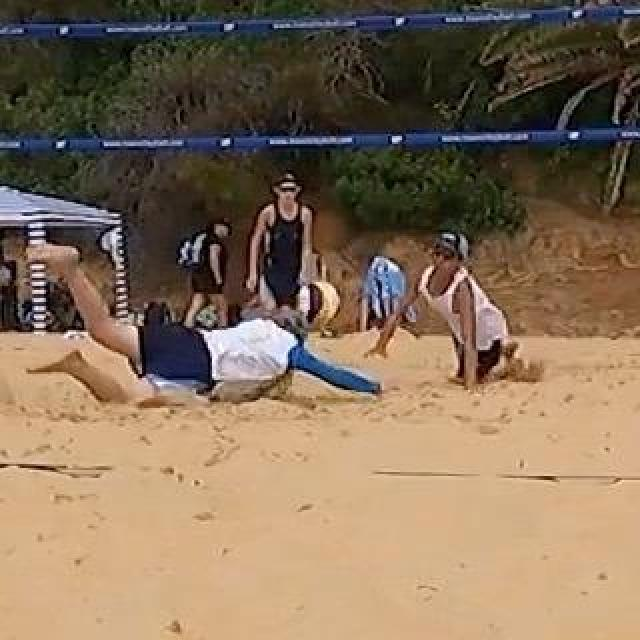volleyball: (298, 278, 340, 324)
